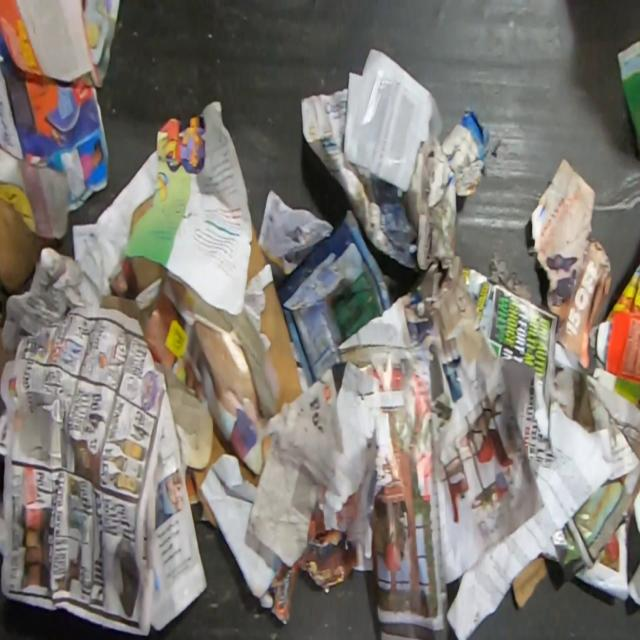cardboard: (193, 218, 304, 431), (0, 182, 58, 295), (511, 555, 548, 608), (127, 255, 170, 294), (130, 194, 154, 234)
